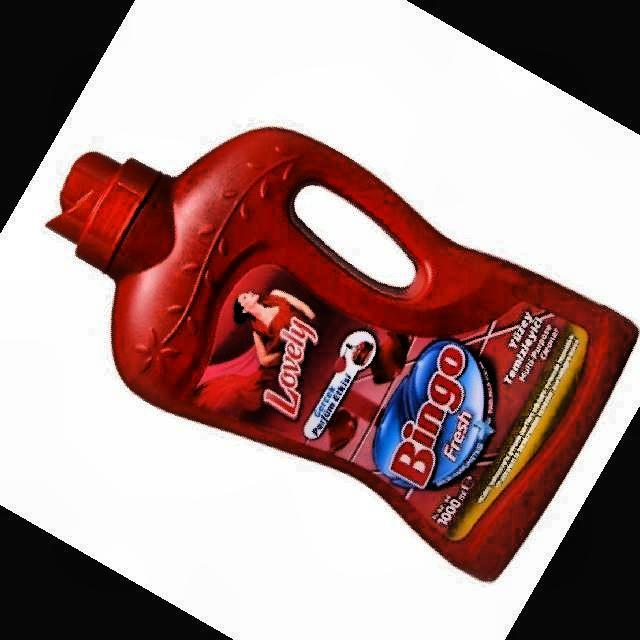plastic: (48, 128, 636, 580)
